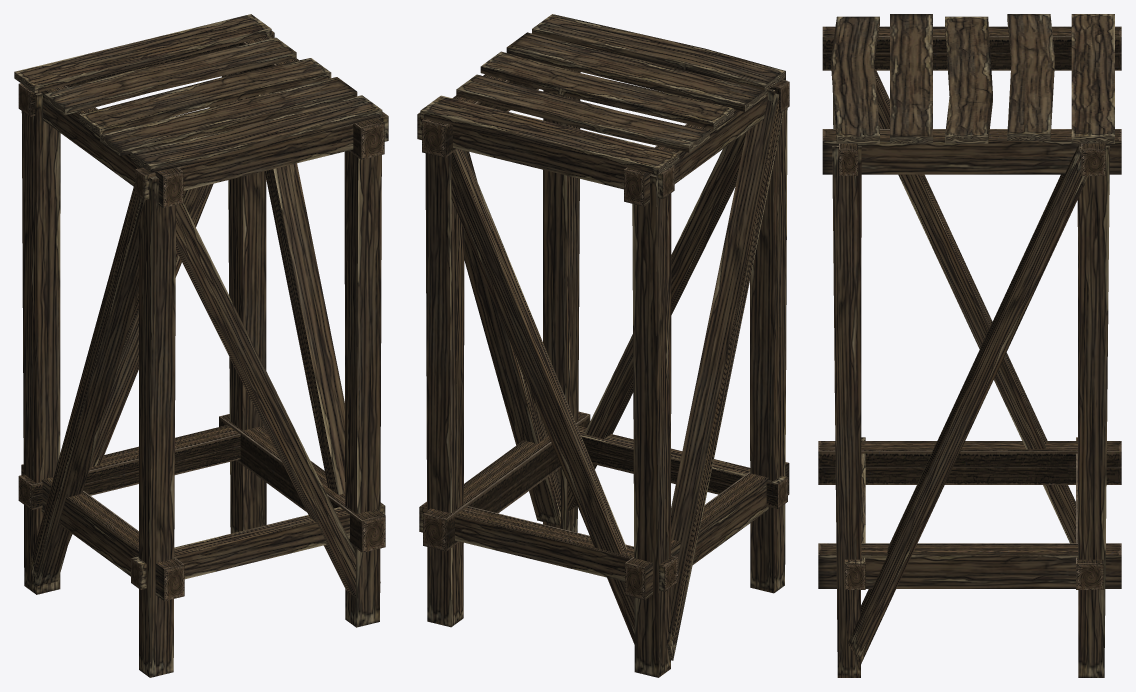
File: Wood_4X8X4_01.fbx
3 renders of one model, left to right at view 1: azimuth 30°, elevation 25°; view 2: azimuth 150°, elevation 25°; view 3: azimuth 270°, elevation 25°, orthographic. The views are drawn at different scales.
Parts seen in each view (by area): view 1: Wood_4X8X4_01; view 2: Wood_4X8X4_01; view 3: Wood_4X8X4_01.
Boxes of the visible parts, x1=… form: Wood_4X8X4_01: x1=14, y1=14, x2=388, y2=677; Wood_4X8X4_01: x1=417, y1=14, x2=789, y2=677; Wood_4X8X4_01: x1=818, y1=14, x2=1121, y2=677.
Size of the model in its own units: 4.02 by 8 by 4.06.
